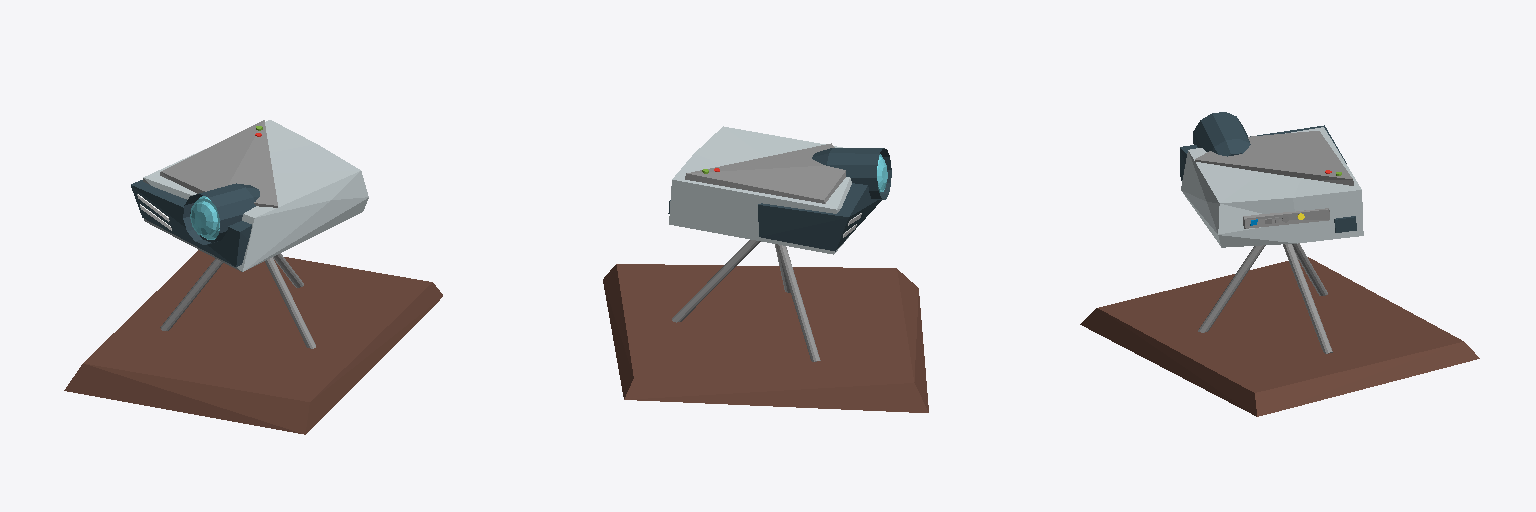
3 renders of one model, left to right at view 1: azimuth 30°, elevation 25°; view 2: azimuth 150°, elevation 25°; view 3: azimuth 270°, elevation 25°, orthographic.
Visible parts, largest first — view 1: group[number redacted], group[number redacted]; view 2: group[number redacted], group[number redacted]; view 3: group[number redacted], group[number redacted].
Part boxes in pixels (x1,y1,x2,y2): group[number redacted]: (64,250,442,434); group[number redacted]: (131,120,368,348); group[number redacted]: (603,264,928,412); group[number redacted]: (668,126,891,361); group[number redacted]: (1080,257,1479,416); group[number redacted]: (1180,112,1363,353).
Bounding box in the file's own units: 0.5648 × 0.3149 × 0.5547.